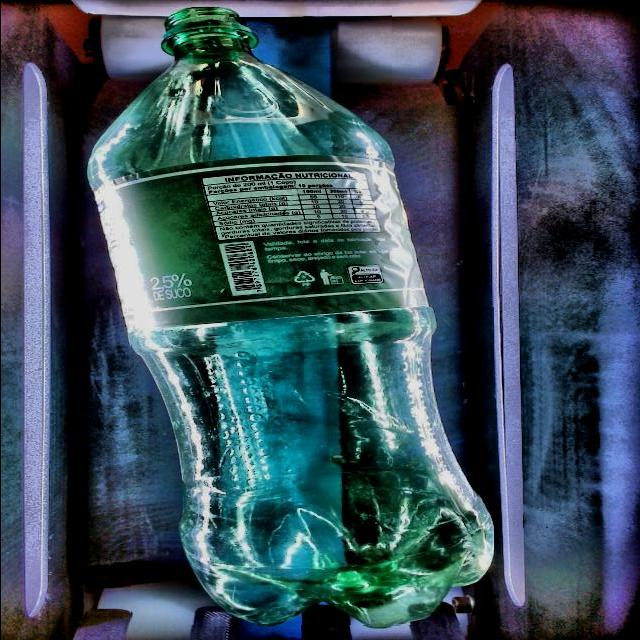bottom: (130, 307, 493, 625)
code: (219, 243, 265, 296)
label: (96, 157, 424, 330)
neck: (87, 7, 391, 189)
